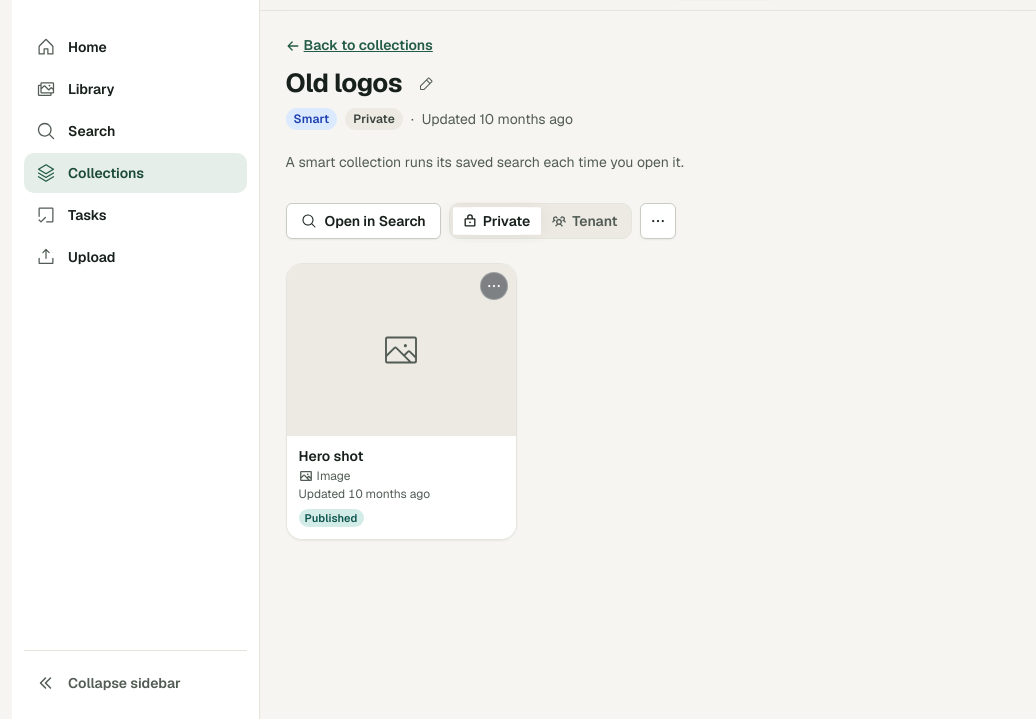
saved searches in the console › opens an older saved search (without the key) with Smart search off, even if it was on in this browser
Expected: the heading "Old logos" is shown, left=286, top=68, right=402, bottom=100
Expected: the text "Smart search" is not shown
Click the link "Open in Search".
click(363, 221)  # box left=286, top=203, right=441, bottom=239
(page scrolled)
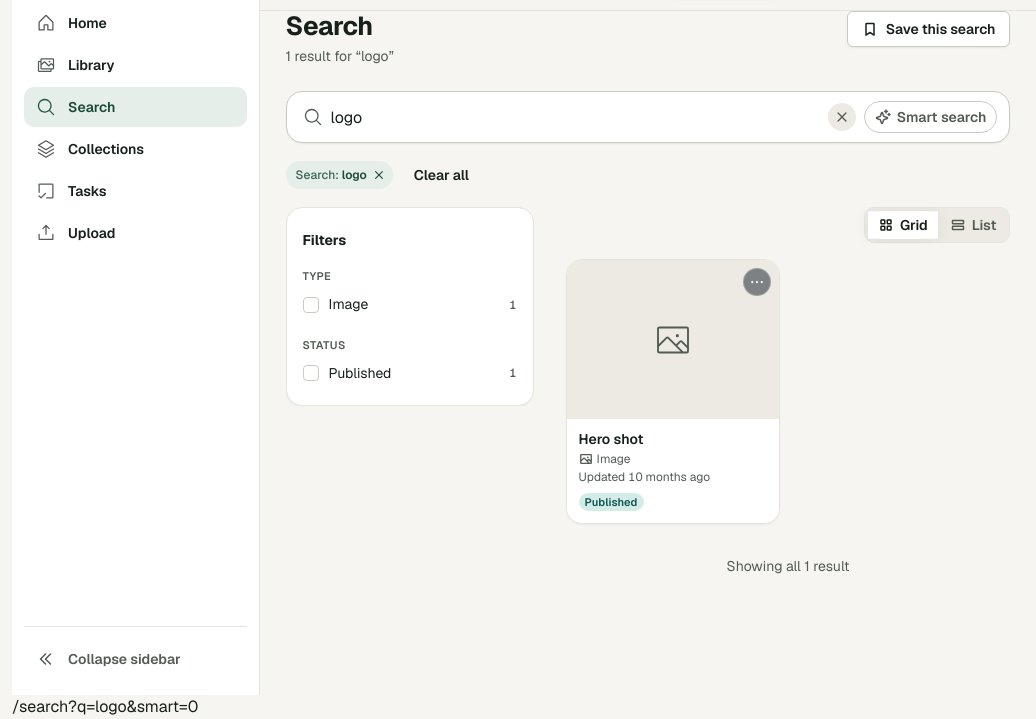
Expected: the switch labelled "Smart search" is not checked, left=864, top=101, right=997, bottom=133
Expected: the text with test id "location" reads "/search?q=logo&smart=0", left=12, top=696, right=198, bottom=717
